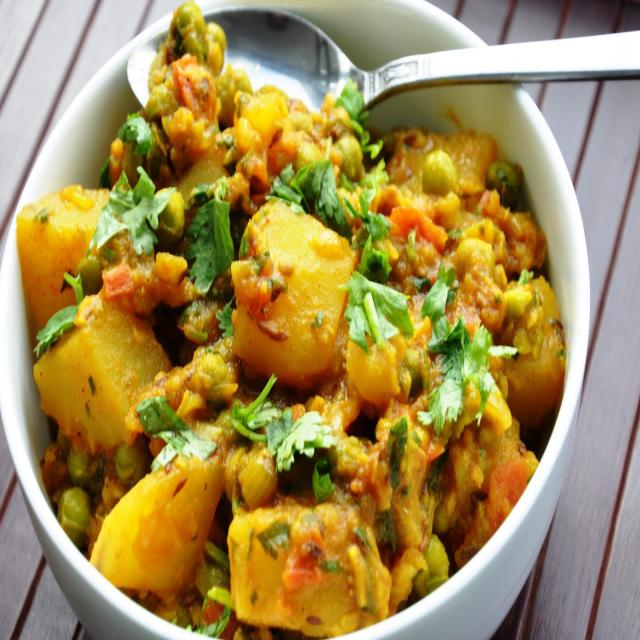aloo_matar: (10, 11, 572, 615)
